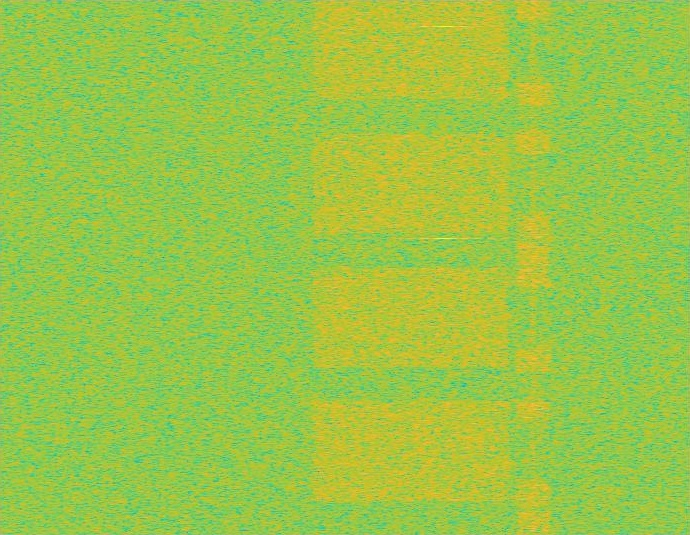5G: (308, 0, 515, 534)
DSSS: (531, 0, 536, 534)
LTE: (516, 0, 551, 534)
Radar: (438, 0, 452, 534)
